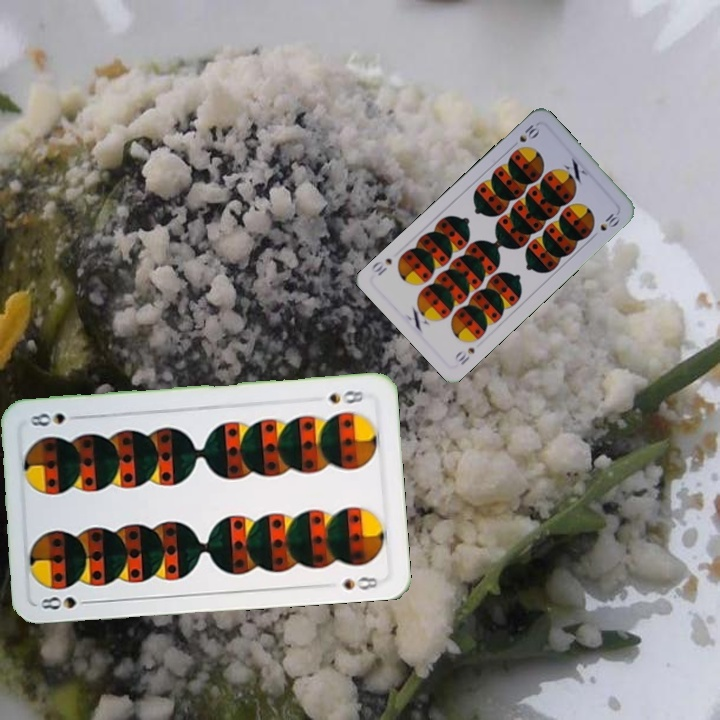S10: (507, 120, 543, 151), (450, 343, 477, 368)
S8: (36, 592, 96, 613), (324, 386, 366, 407)
